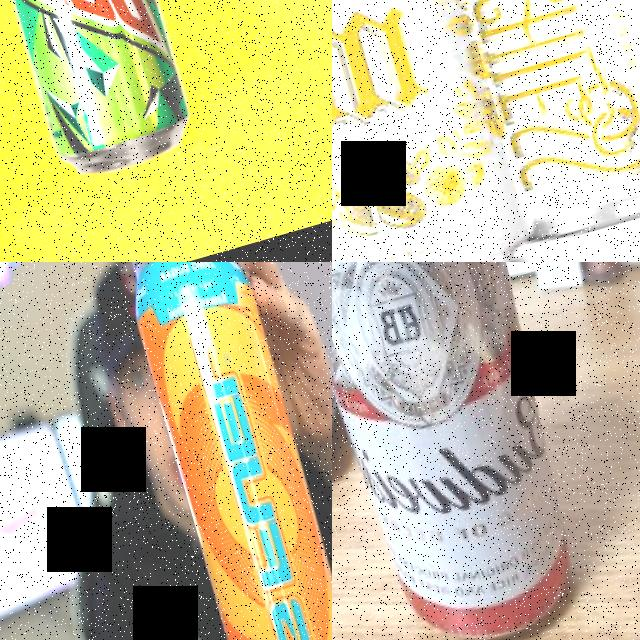can: (332, 262, 613, 640), (115, 262, 332, 640), (382, 0, 640, 254), (332, 0, 546, 262), (0, 0, 197, 182)
